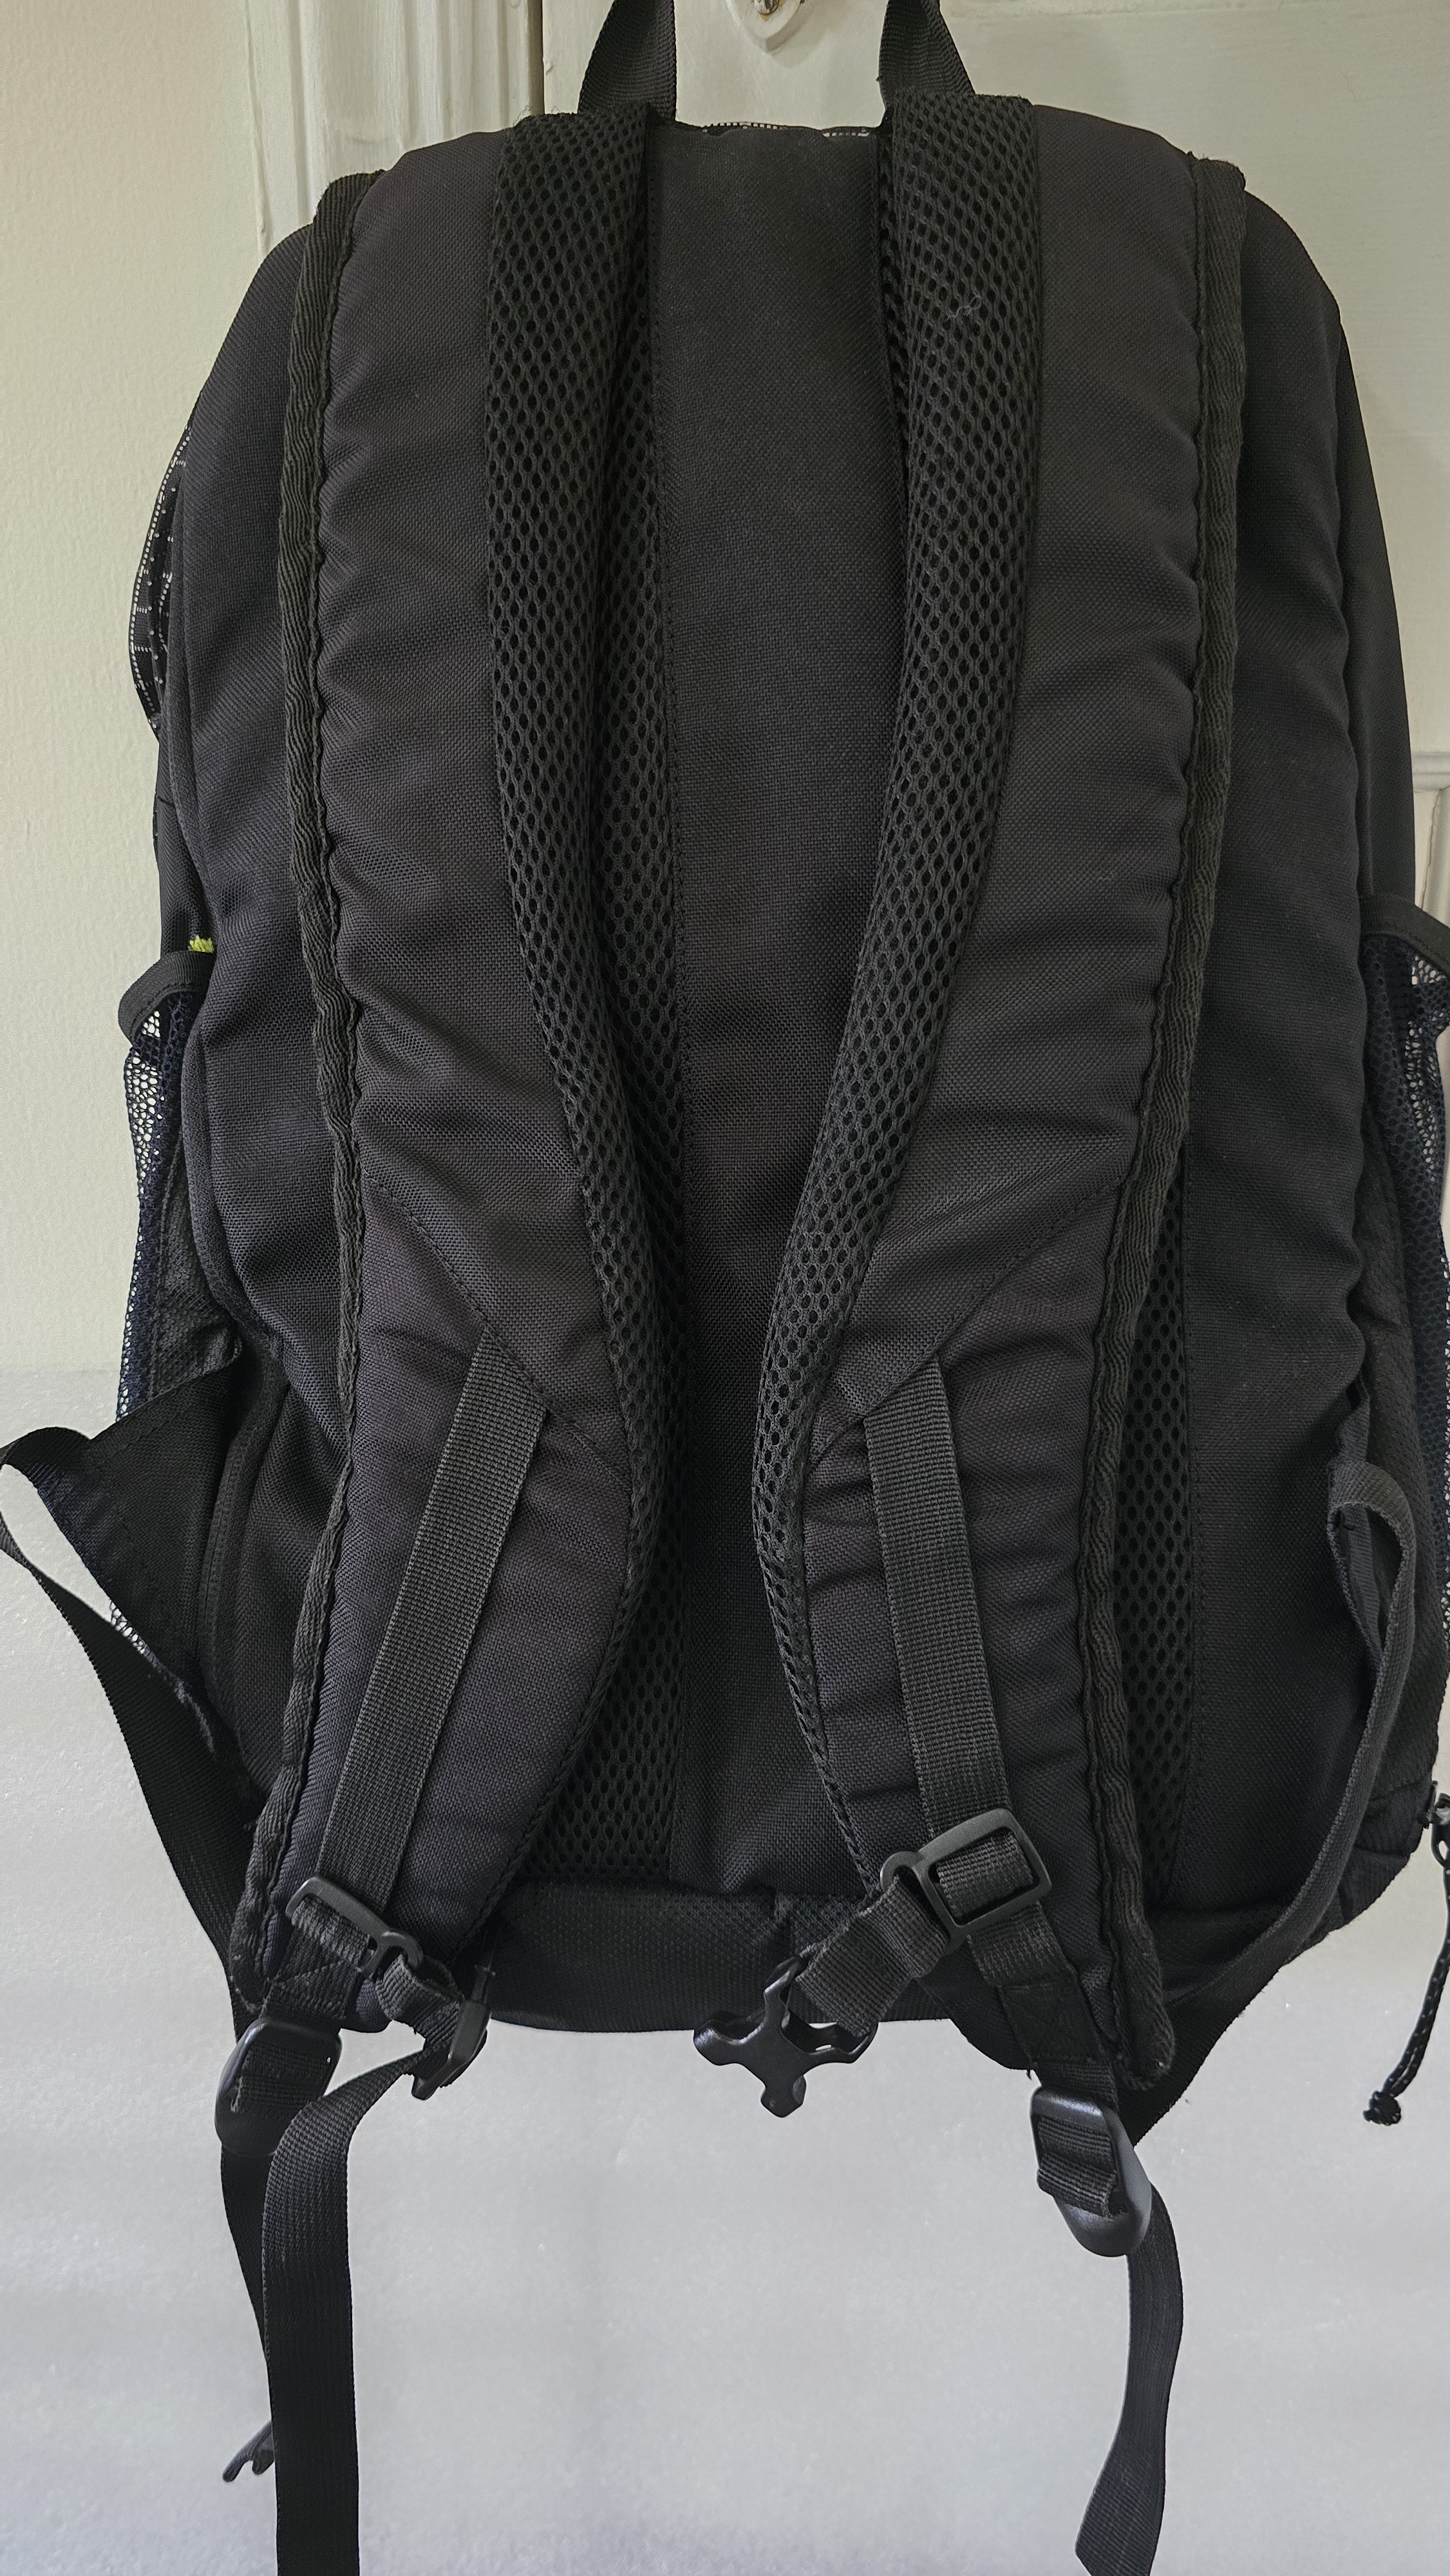bag: (27, 16, 1450, 2576)
